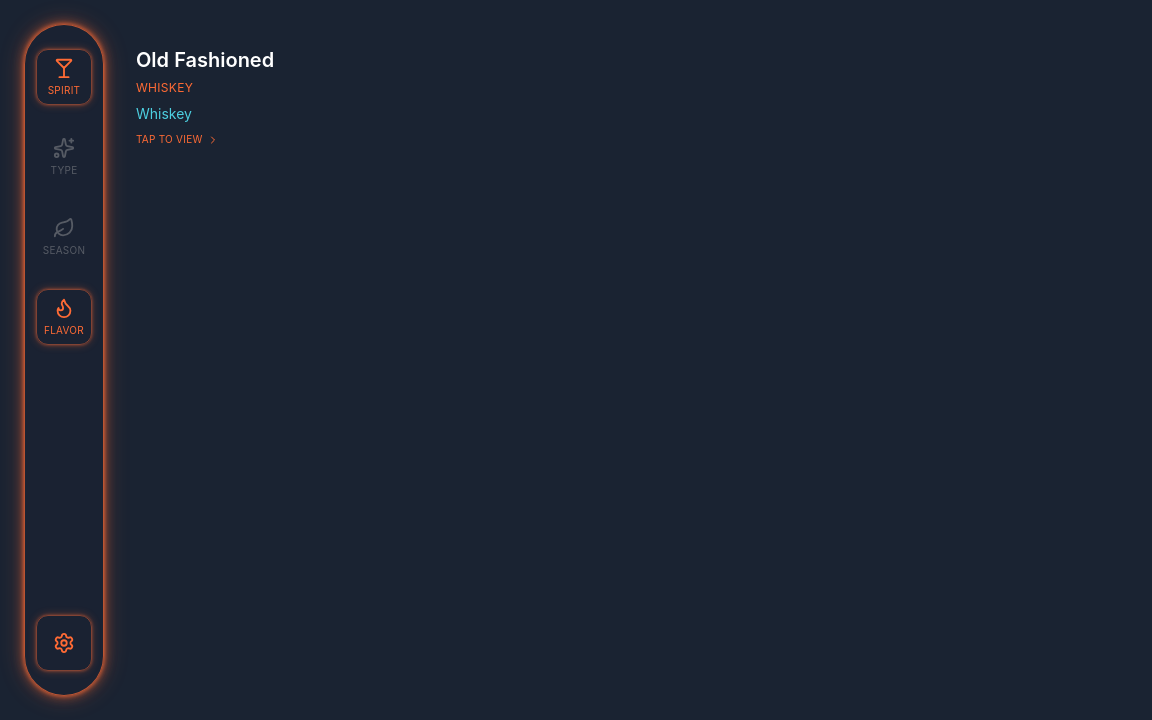
RecipeBrowse › hides a not-makeable recipe by default (available-only) and reveals it after toggling the availability filter
The image size is (1152, 720).
Check: the heading "Old Fashioned" is shown, box top-left (136, 48), bottom-right (274, 72)
Check: the text "Daiquiri" is not shown
Click the button named "Settings" at coordinates (64, 643), box top-left (36, 615), bottom-right (92, 671)
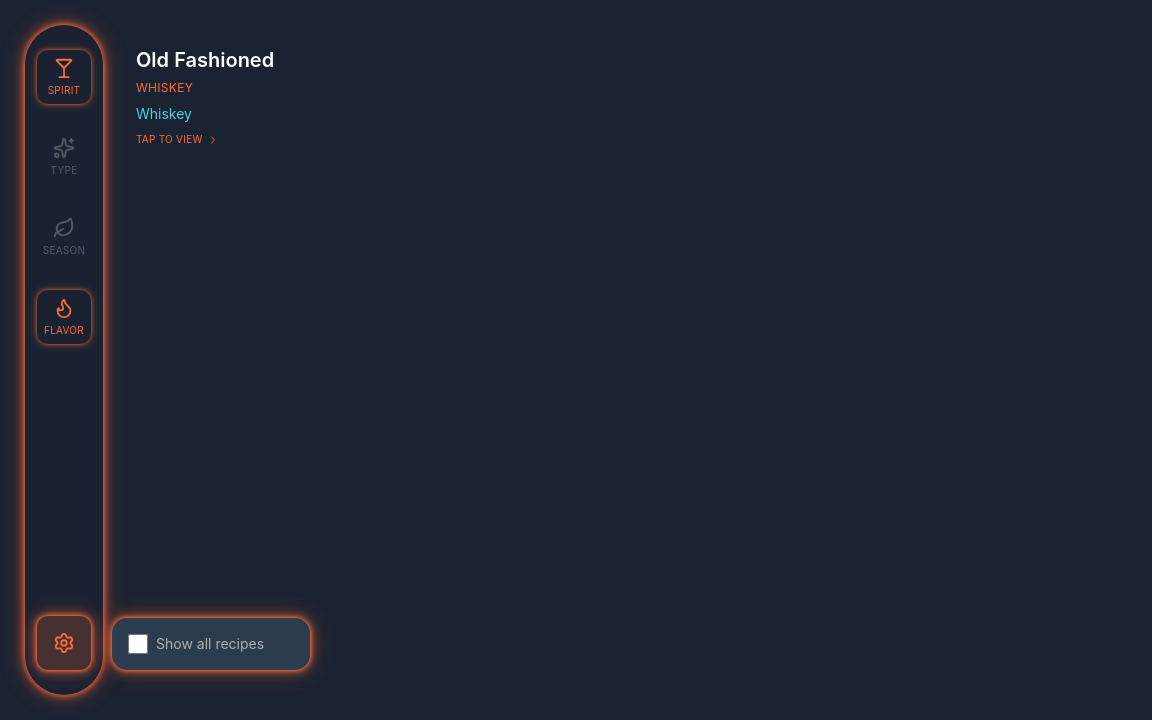
Click the checkbox labelled "Show all recipes" at coordinates (138, 644), box top-left (128, 634), bottom-right (148, 654)
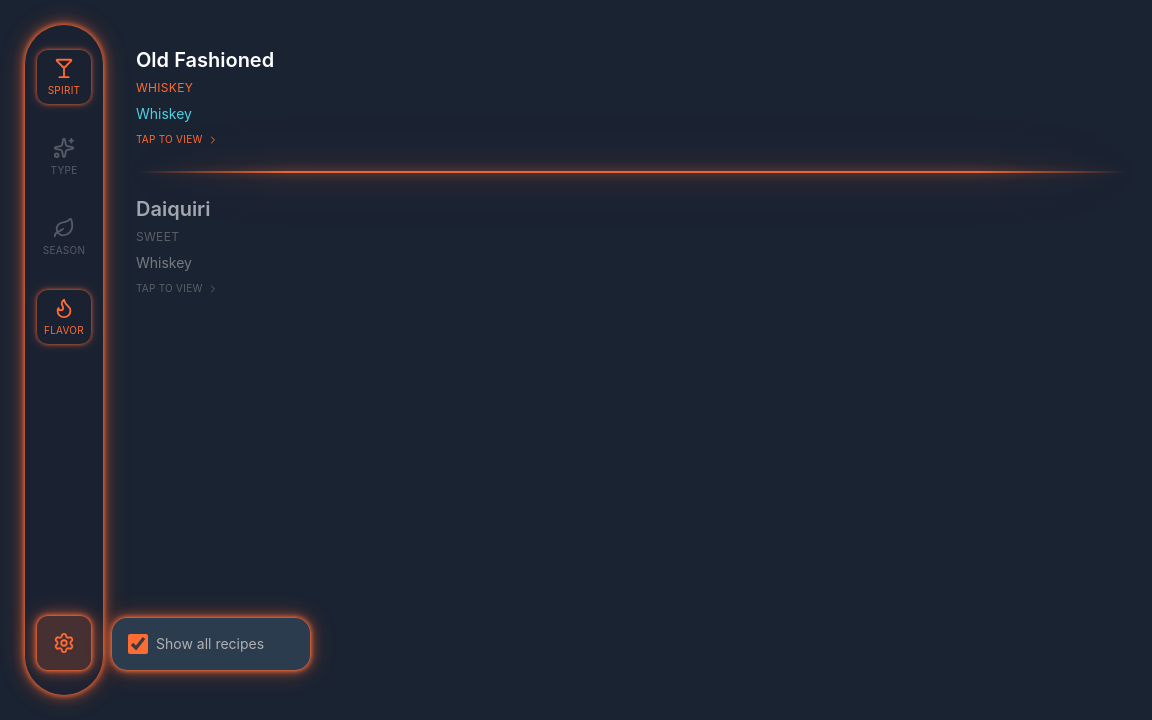
Check: the heading "Old Fashioned" is shown, box top-left (136, 48), bottom-right (274, 72)
Check: the heading "Daiquiri" is shown, box top-left (136, 197), bottom-right (210, 221)
